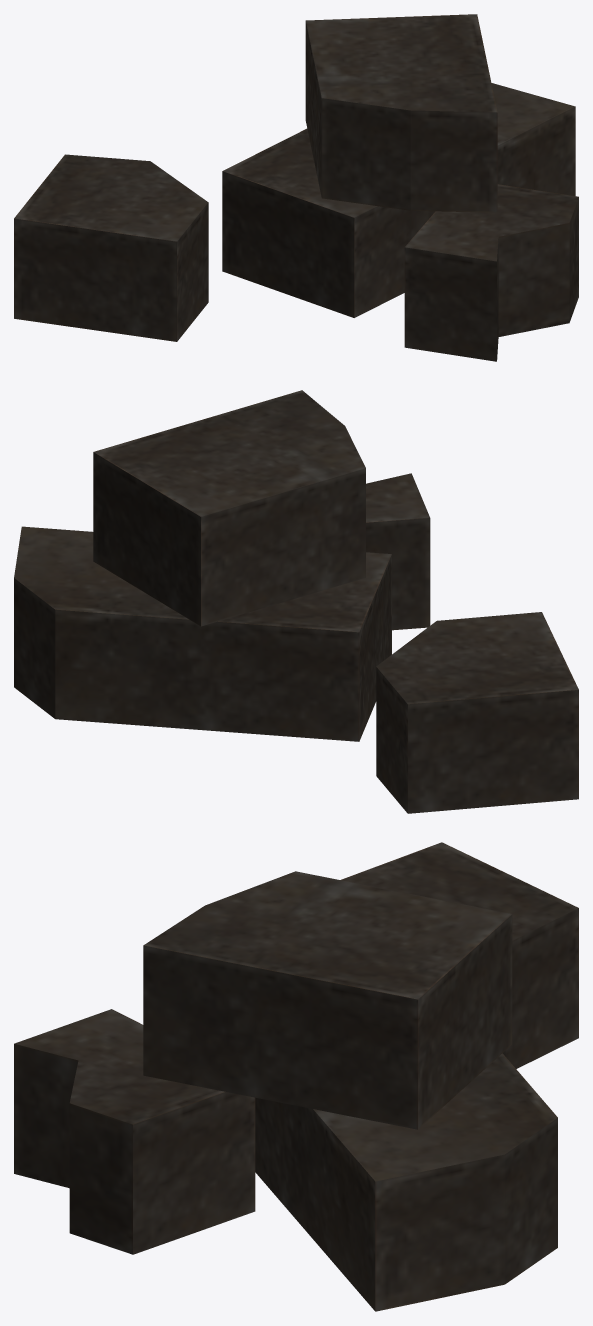
The model's file is bricks_stacked_mx_3.dae.
The picture shows the model from 3 angles, top to bottom: view 1: azimuth 30°, elevation 25°; view 2: azimuth 150°, elevation 25°; view 3: azimuth 270°, elevation 25°; orthographic projection. The views are drawn at different scales.
Parts seen in each view (by area): view 1: bricks_stacked_mx_3; view 2: bricks_stacked_mx_3; view 3: bricks_stacked_mx_3.
Boxes of the visible parts, x1,y1,x2,y2 form: bricks_stacked_mx_3: (14, 14, 578, 361); bricks_stacked_mx_3: (14, 390, 578, 813); bricks_stacked_mx_3: (14, 842, 578, 1311).
Bounding box in the file's own units: 0.5033 × 0.3541 × 0.18.
1 material, 1 textured.
